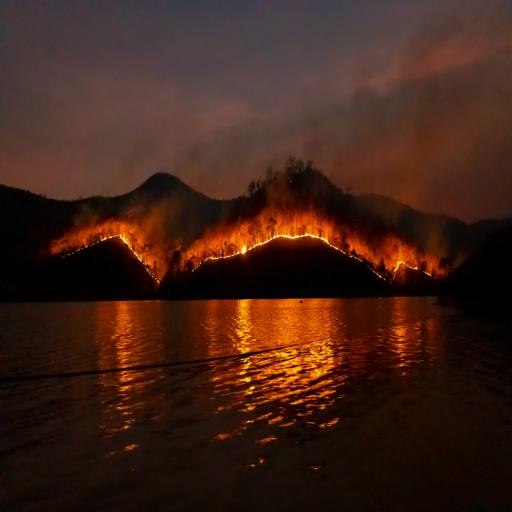wildfire: (0, 127, 512, 293)
